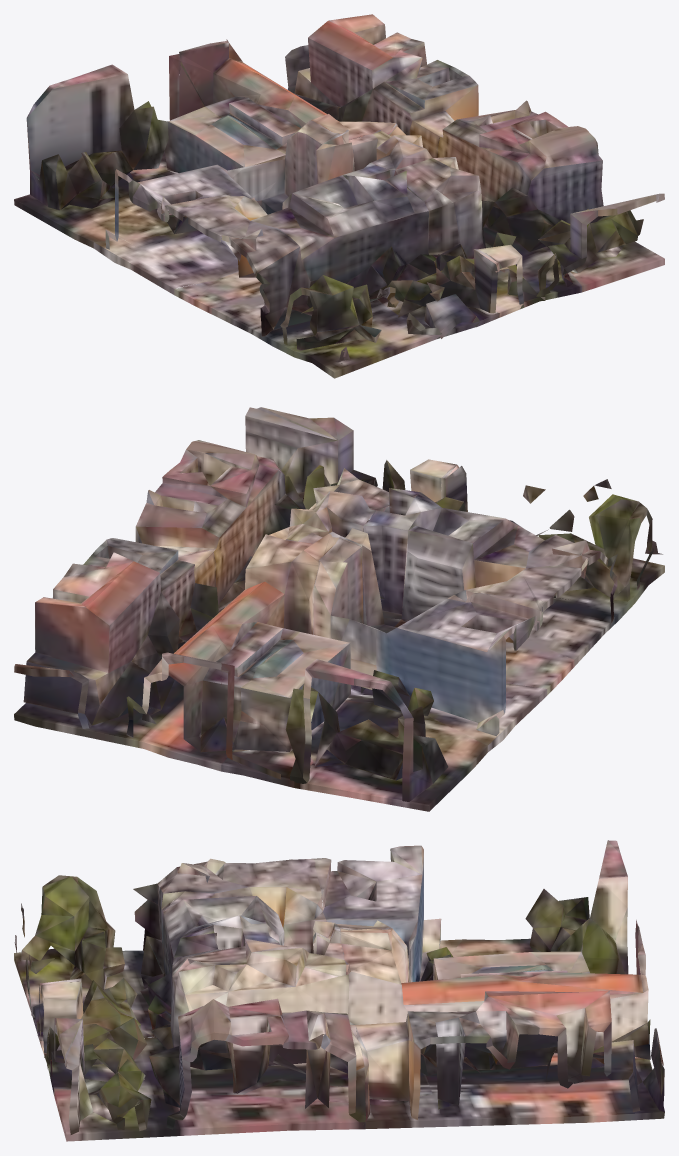
3 views of the same model, one above another, from view 1: azimuth 30°, elevation 25°; view 2: azimuth 150°, elevation 25°; view 3: azimuth 270°, elevation 25° (orthographic). The views are drawn at different scales.
Parts seen in each view (by area): view 1: Mesh_0; view 2: Mesh_0; view 3: Mesh_0.
Boxes of the visible parts, x1=… form: Mesh_0: x1=14, y1=14, x2=664, y2=378; Mesh_0: x1=14, y1=407, x2=664, y2=811; Mesh_0: x1=14, y1=840, x2=664, y2=1141.
Bounding box in the file's own units: 133 × 35.61 × 165.
1 material, 1 textured.
